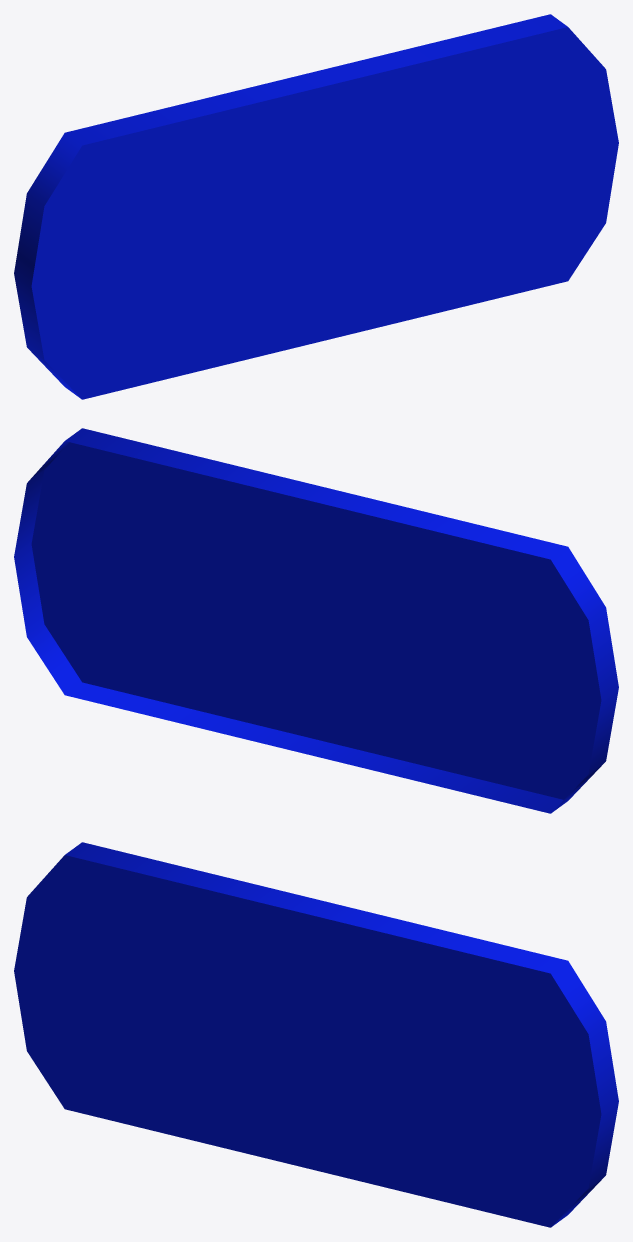
Rendered from VluchtBord.fbx.
3 renders of one model, top to bottom at view 1: azimuth 30°, elevation 25°; view 2: azimuth 150°, elevation 25°; view 3: azimuth 330°, elevation 25°, orthographic.
Visible parts, largest first — view 1: Vluchtbord; view 2: Vluchtbord; view 3: Vluchtbord.
Part boxes in pixels (x1,y1,x2,y2): Vluchtbord: (14, 14, 618, 399); Vluchtbord: (14, 428, 618, 813); Vluchtbord: (14, 842, 618, 1227).
Bounding box in the file's own units: 48.36 × 20 × 2.5.
